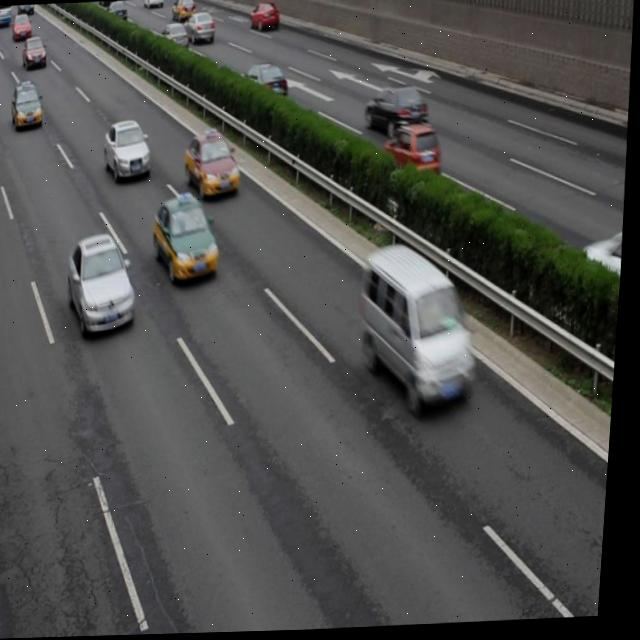car: (67, 234, 143, 339), (151, 195, 226, 288), (184, 128, 246, 202), (363, 84, 430, 139), (102, 117, 155, 182), (383, 124, 442, 182), (242, 63, 290, 106), (11, 82, 45, 130), (182, 11, 216, 46), (249, 2, 280, 33), (159, 22, 189, 52), (22, 36, 49, 67), (105, 1, 128, 26), (171, 0, 195, 23), (12, 14, 31, 40), (141, 0, 163, 10)
truck: (361, 243, 487, 418)
